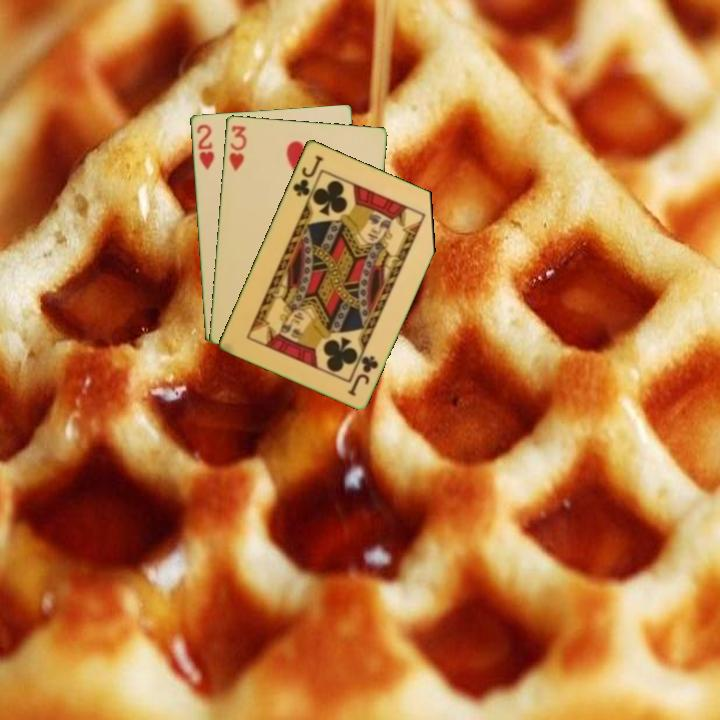2h: (193, 120, 217, 172)
3h: (225, 122, 249, 174)
Jc: (289, 151, 326, 199), (344, 351, 381, 398)
